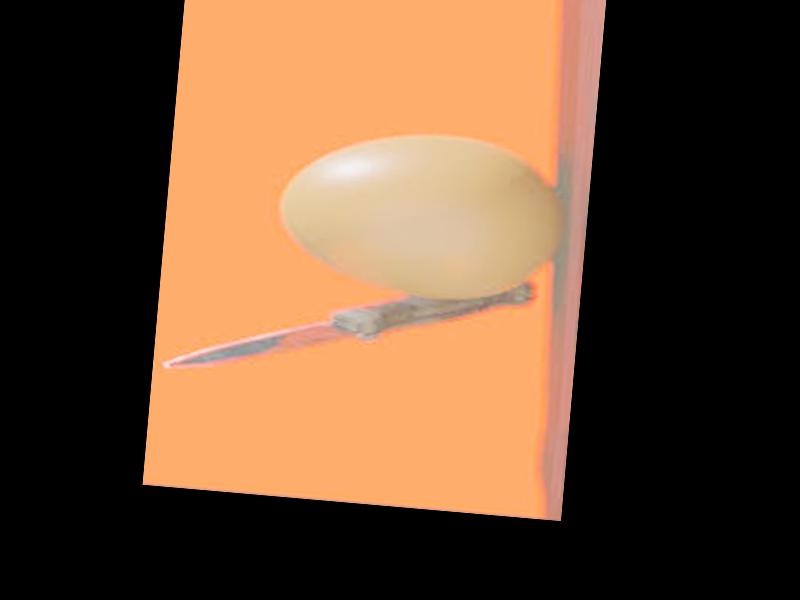Eggs: (278, 125, 563, 306)
